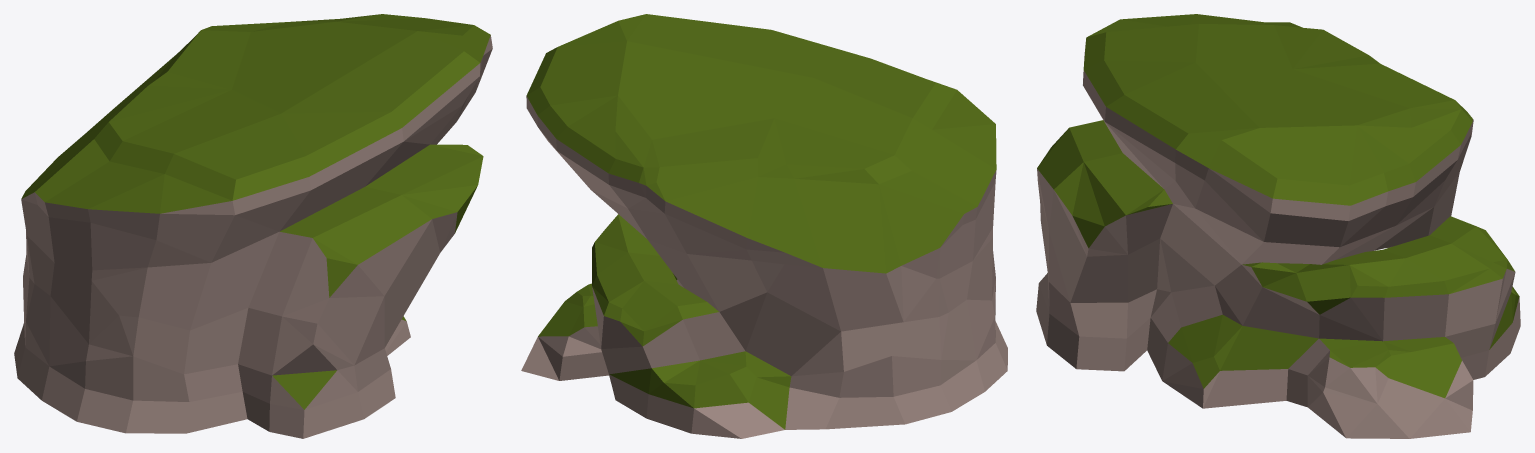
File: Rock_1.fbx
3 views of the same model, side by side, from view 1: azimuth 30°, elevation 25°; view 2: azimuth 150°, elevation 25°; view 3: azimuth 270°, elevation 25° (orthographic). The views are drawn at different scales.
Parts seen in each view (by area): view 1: Rock_1; view 2: Rock_1; view 3: Rock_1.
Part boxes in pixels (<box>): Rock_1: <box>14,14,492,438</box>; Rock_1: <box>521,14,1007,438</box>; Rock_1: <box>1036,14,1520,438</box>.
Bounding box in the file's own units: 11.04 × 6.51 × 9.48.
